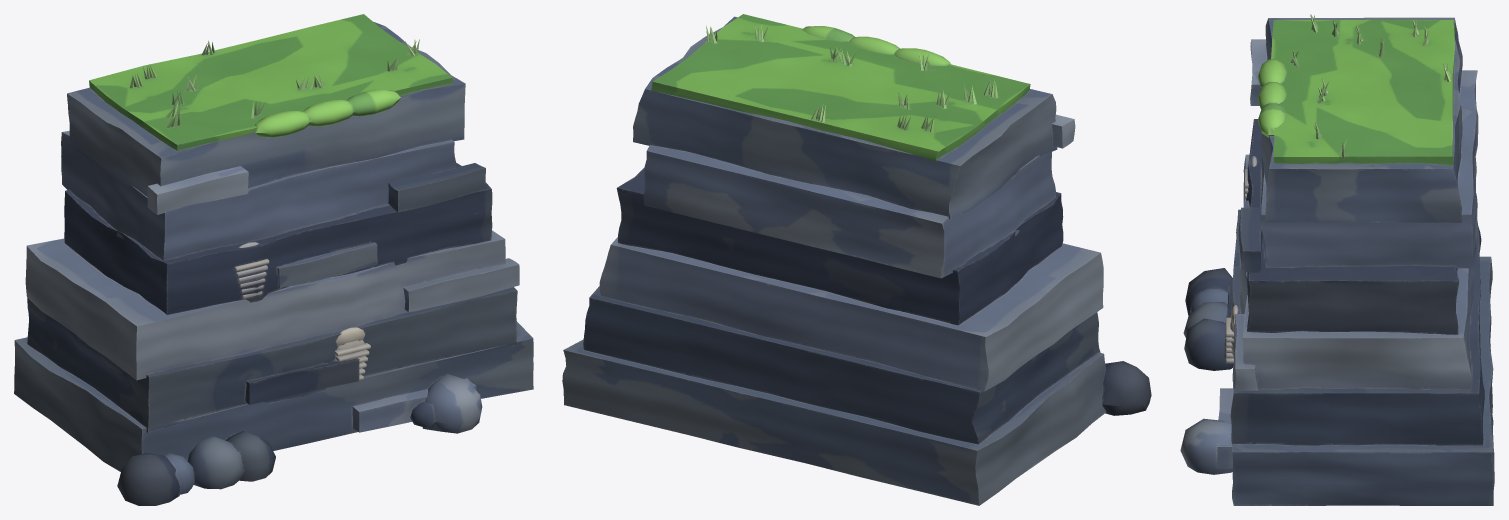
The model's file is cliff_paleo.glb.
3 views of the same model, side by side, from view 1: azimuth 30°, elevation 25°; view 2: azimuth 150°, elevation 25°; view 3: azimuth 270°, elevation 25° (orthographic). The views are drawn at different scales.
Visible parts, largest first — view 1: SM_CliffPaleo; view 2: SM_CliffPaleo; view 3: SM_CliffPaleo.
Part boxes in pixels (bbox=[...]): SM_CliffPaleo: bbox=[14, 14, 533, 505]; SM_CliffPaleo: bbox=[562, 14, 1151, 505]; SM_CliffPaleo: bbox=[1180, 14, 1494, 505].
Size of what is drawn, in the model's own units: 9.74 by 7.22 by 6.11.
Materials: 1 (1 with a texture image).
